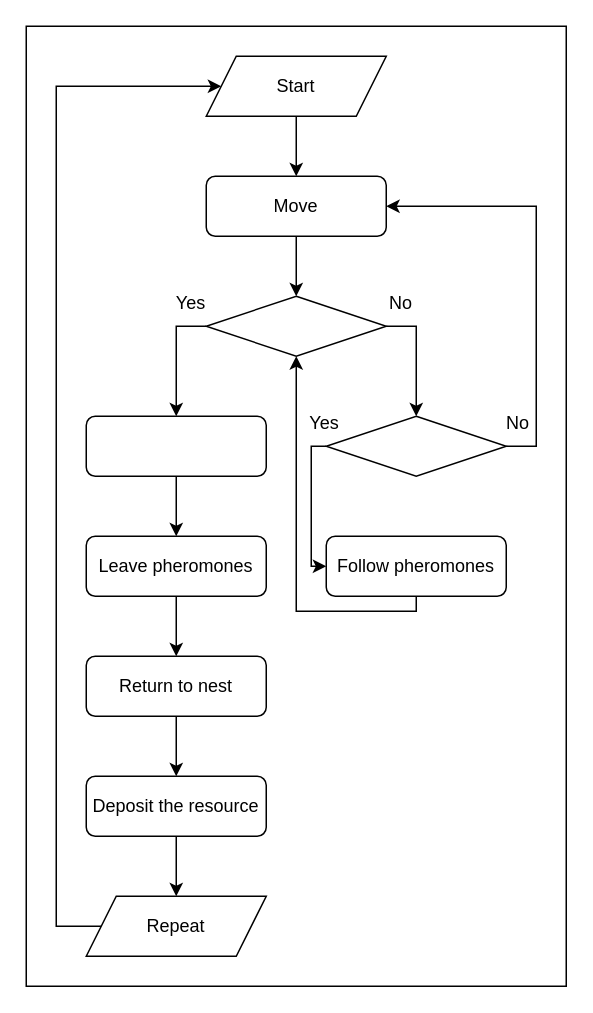
This 593x1013 diagram has some shape labels left out. The box of each missing label's shape, as (x1, y1, x2, y2) in pixels:
Pheromones?: (325, 415, 506, 476)
Pick-up resource: (85, 415, 266, 476)
Resource?: (205, 295, 386, 356)
